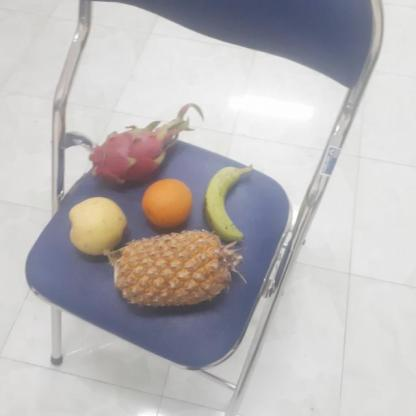orange: (142, 177, 197, 230)
pear: (68, 198, 130, 257)
pineapple: (113, 231, 237, 309)
pitaya: (94, 129, 173, 190)
